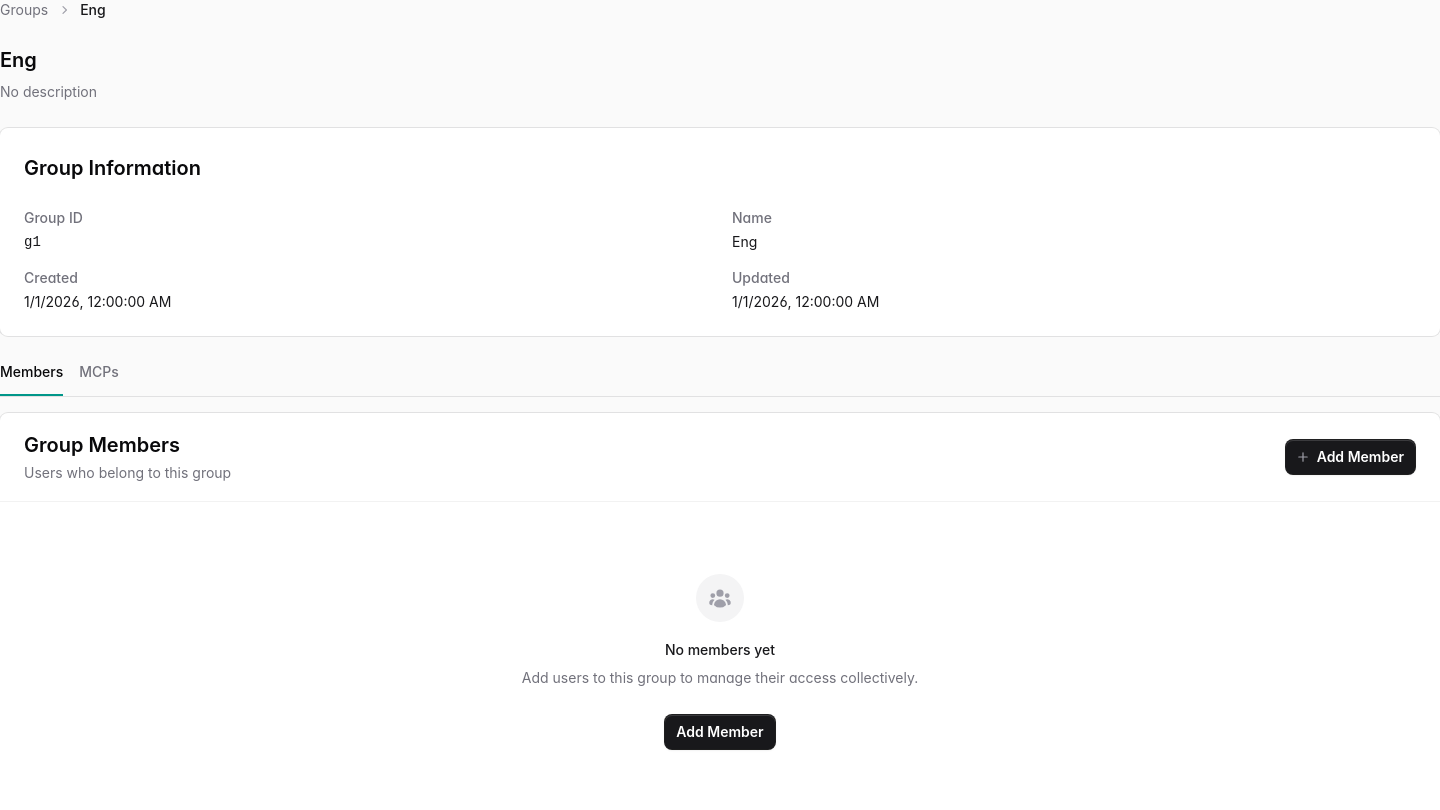
Test: group MCP grants: tool policy › shows each grant’s tool mode in the list
Click the tab "MCPs". click: (99, 378)
box: left=79, top=360, right=119, bottom=396
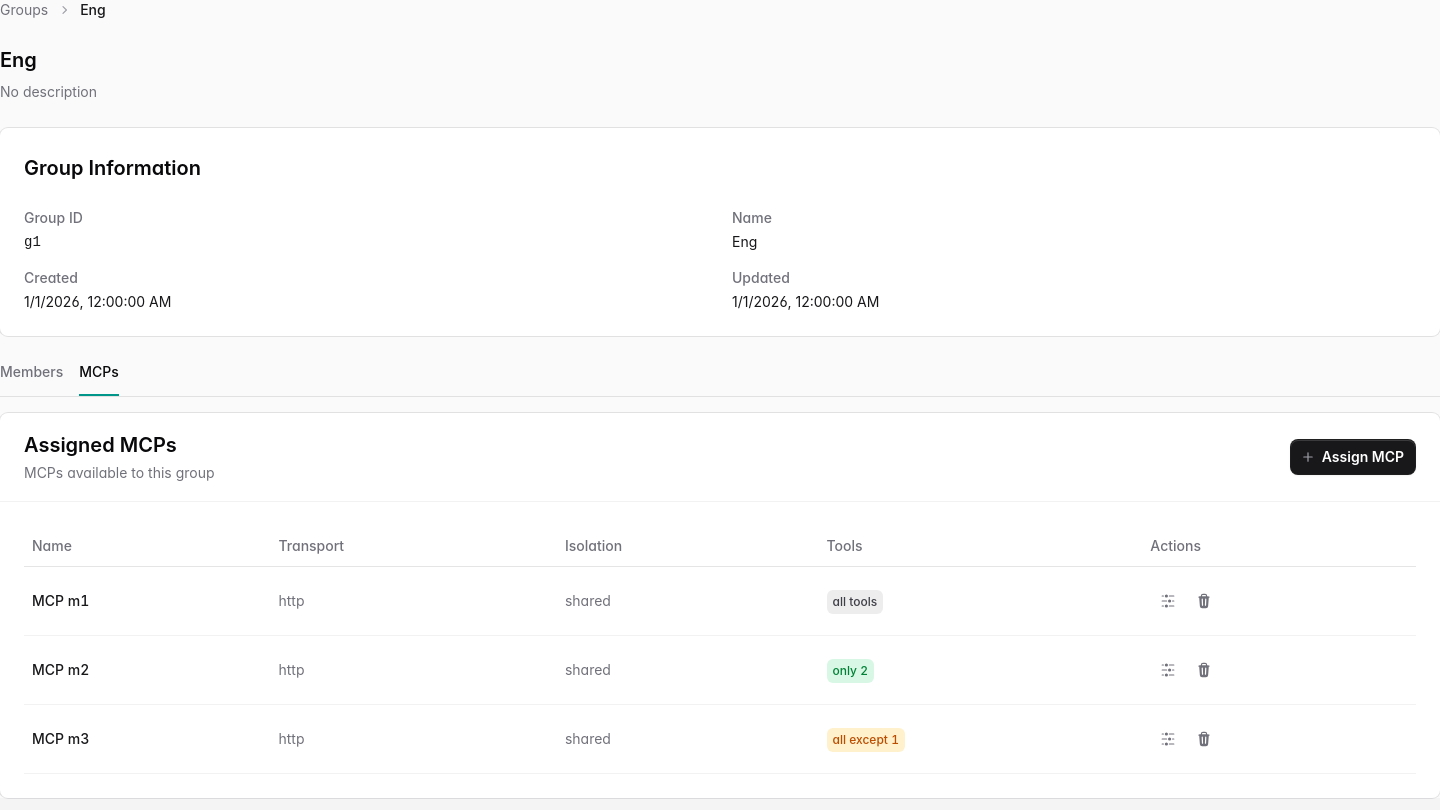
Check: the cell with test id "tools-m1" reads "all tools", box left=832, top=594, right=877, bottom=608
Check: the cell with test id "tools-m2" reads "only 2", box left=810, top=636, right=1134, bottom=704
Check: the cell with test id "tools-m3" reads "all except 1", box left=810, top=704, right=1134, bottom=774
